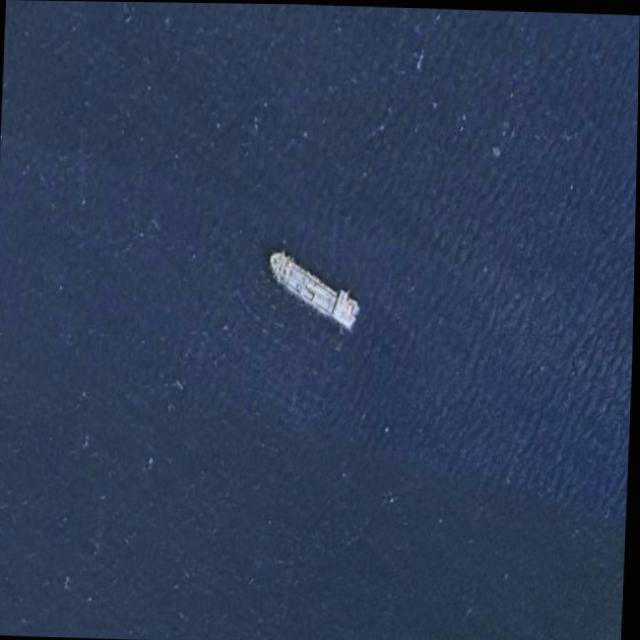ship2: (268, 246, 361, 327)
